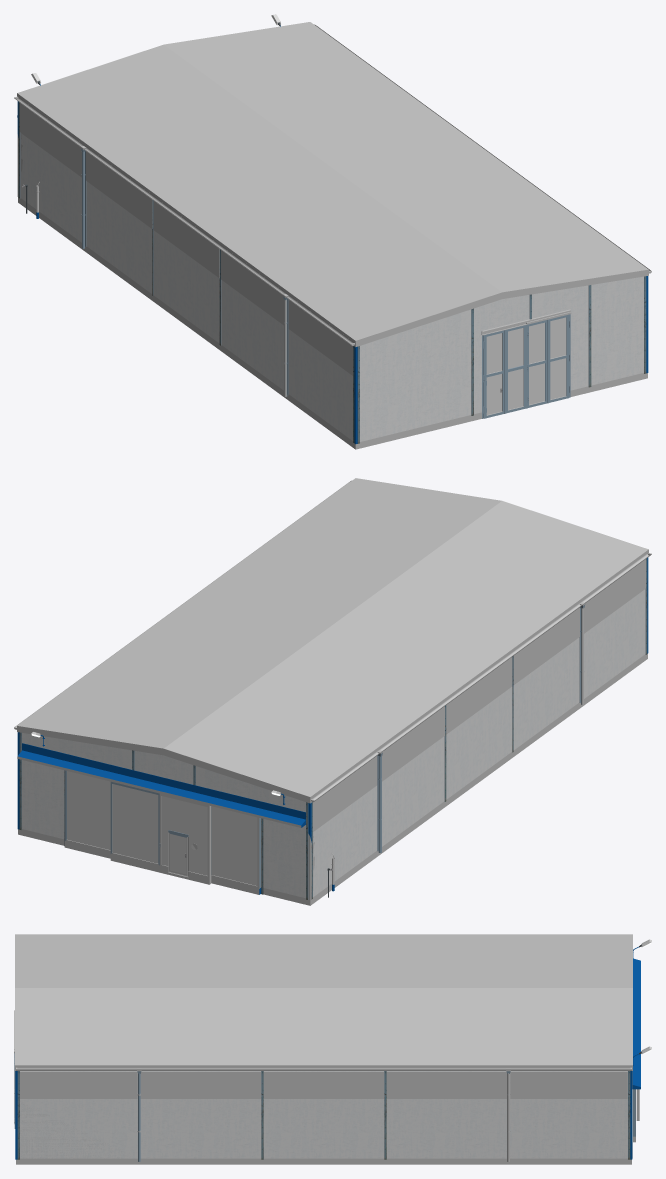
File: edap-hangar-b_LOD00.gltf
3 renders of one model, top to bottom at view 1: azimuth 30°, elevation 25°; view 2: azimuth 150°, elevation 25°; view 3: azimuth 270°, elevation 25°, orthographic. The views are drawn at different scales.
Parts seen in each view (by area): view 1: roof, body, rear gate, roof decal, body decal.004, drainage, body decal.009; view 2: roof, body, gate rails.001, gate CL, gate RR, roof decal, gate LL, gate CR, body decal.004, drainage, gate CR decal, gate rails decal.001 (+1 smaller); view 3: roof, body, body decal.006, roof decal, drainage.001, gate rails.001, body decal.009, body decal.007.
Boxes of the visible parts, bbox=[...] form: roof: bbox=[17, 22, 648, 340]; body: bbox=[20, 103, 643, 441]; rear gate: bbox=[482, 314, 570, 418]; roof decal: bbox=[17, 93, 648, 347]; body decal.004: bbox=[85, 246, 355, 449]; drainage: bbox=[14, 96, 354, 345]; body decal.009: bbox=[355, 373, 647, 449]; roof: bbox=[17, 478, 648, 796]; body: bbox=[22, 559, 645, 905]; gate rails.001: bbox=[18, 743, 305, 827]; gate CL: bbox=[110, 781, 159, 865]; gate RR: bbox=[211, 806, 260, 894]; roof decal: bbox=[17, 549, 648, 803]; gate LL: bbox=[64, 770, 110, 850]; gate CR: bbox=[162, 796, 207, 875]; body decal.004: bbox=[378, 653, 647, 855]; drainage: bbox=[311, 553, 651, 802]; gate CR decal: bbox=[159, 793, 211, 884]; gate rails decal.001: bbox=[17, 756, 301, 827]; roof: bbox=[15, 934, 632, 1065]; body: bbox=[20, 1071, 627, 1158]; body decal.006: bbox=[139, 1158, 631, 1164]; roof decal: bbox=[15, 1065, 632, 1070]; drainage.001: bbox=[16, 1067, 631, 1070]; gate rails.001: bbox=[632, 959, 640, 1089]; body decal.009: bbox=[16, 1158, 138, 1164]; body decal.007: bbox=[20, 1103, 110, 1158].
Size of the model in its own units: 16.75 by 6.38 by 33.14.
